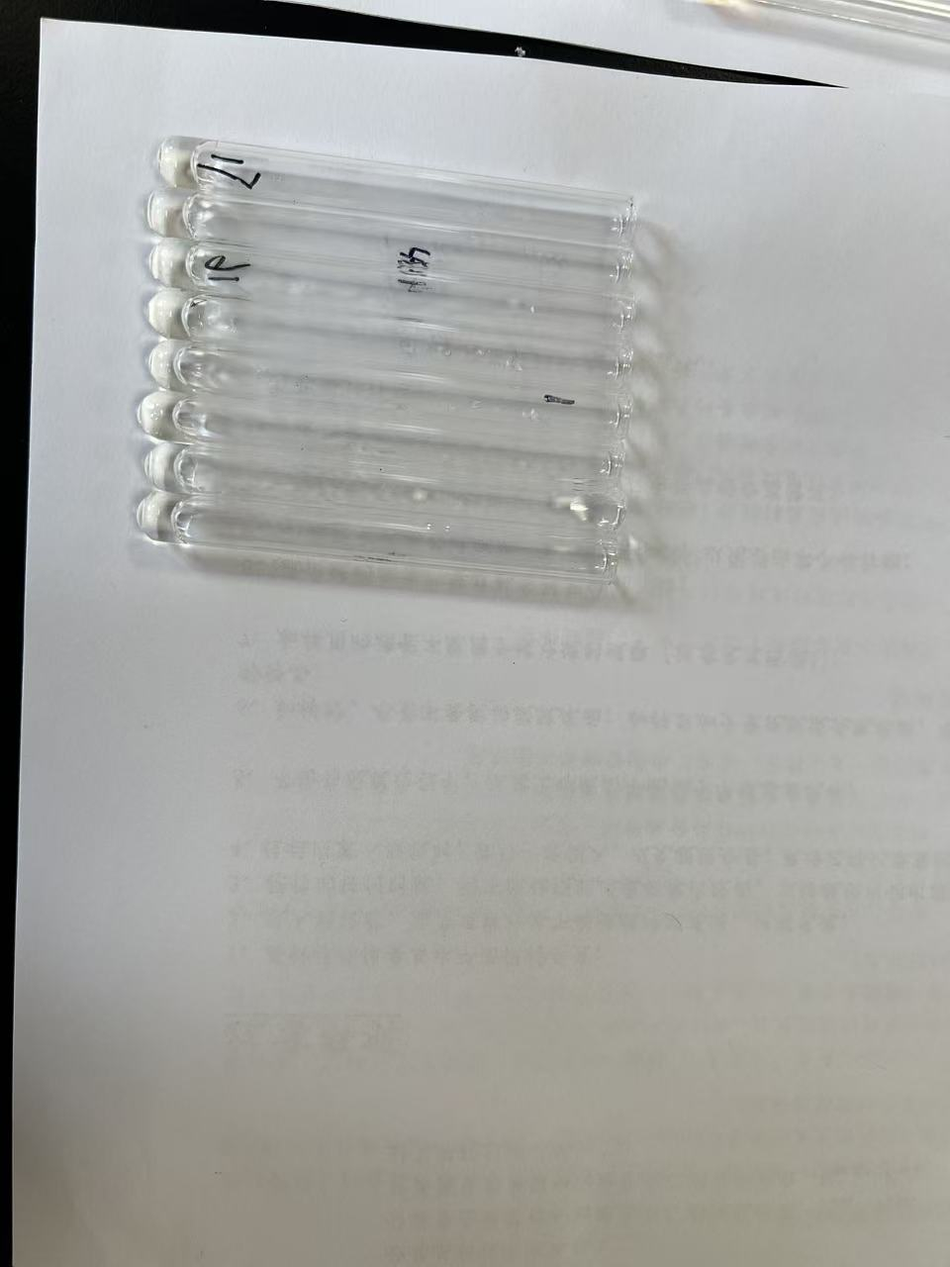drop: (144, 286, 203, 344), (148, 186, 208, 241), (156, 136, 213, 193), (147, 241, 208, 293), (136, 491, 186, 551), (138, 389, 191, 444), (144, 339, 195, 392), (144, 443, 187, 497)
